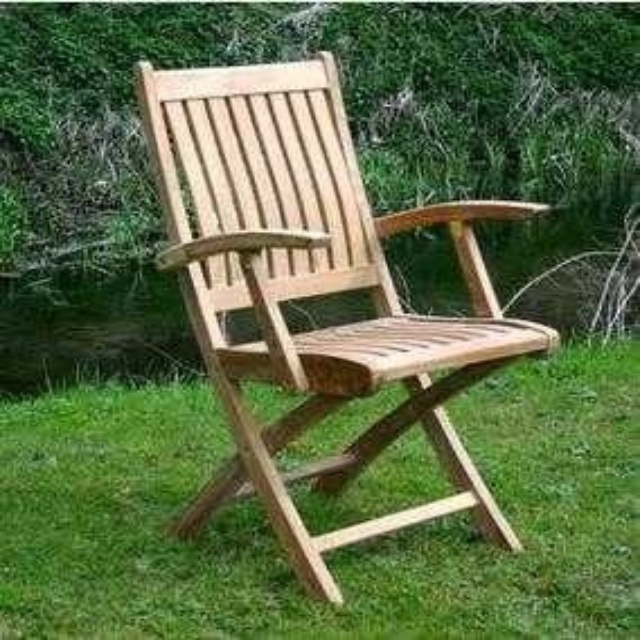obstacle: (137, 53, 557, 602)
